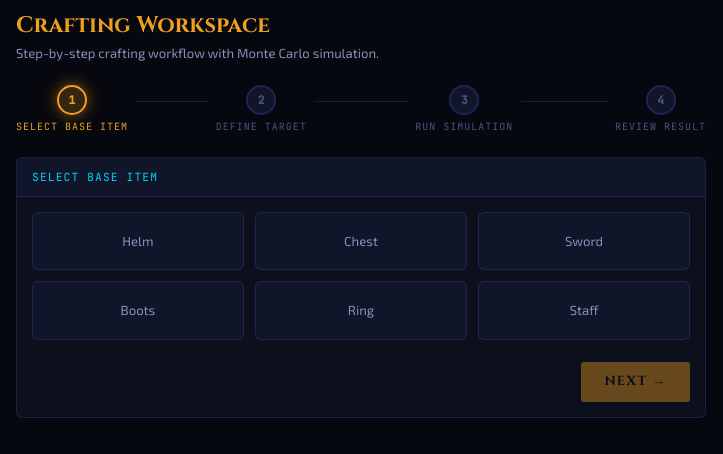
Test: CraftingWorkspace › navigates to step 2 when Next clicked after selecting item
What coordinates should you click on to do the following:
click the button "Helm"
I would click on:
 (138, 241)
Its box is 32,212 -> 244,270.
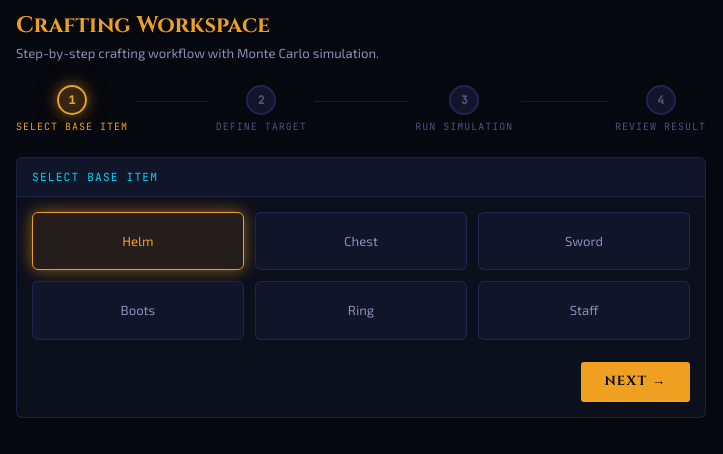
What coordinates should you click on to do the following:
click the button "Next →"
I would click on:
 (635, 382)
Its box is 581,362 -> 690,402.
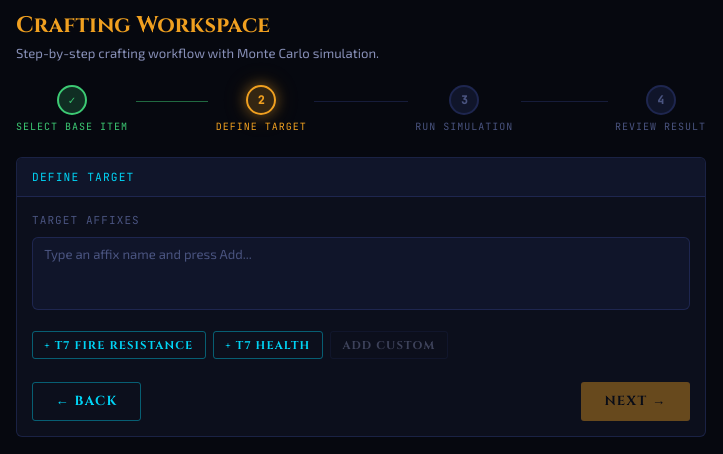
expect the text "Target Affixes" is shown: met, box 32,213 -> 140,227
